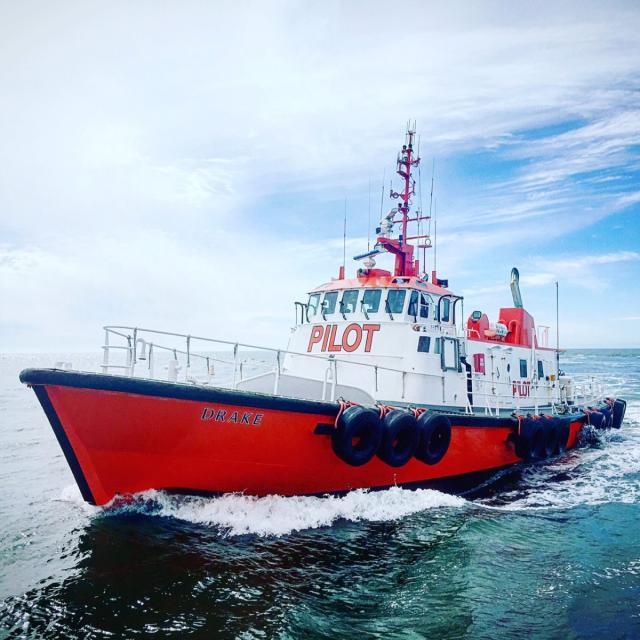houseboat: (20, 182, 613, 512)
